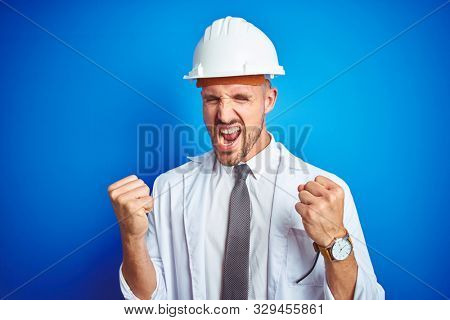Person_wearing_helmet: (180, 10, 289, 121)
